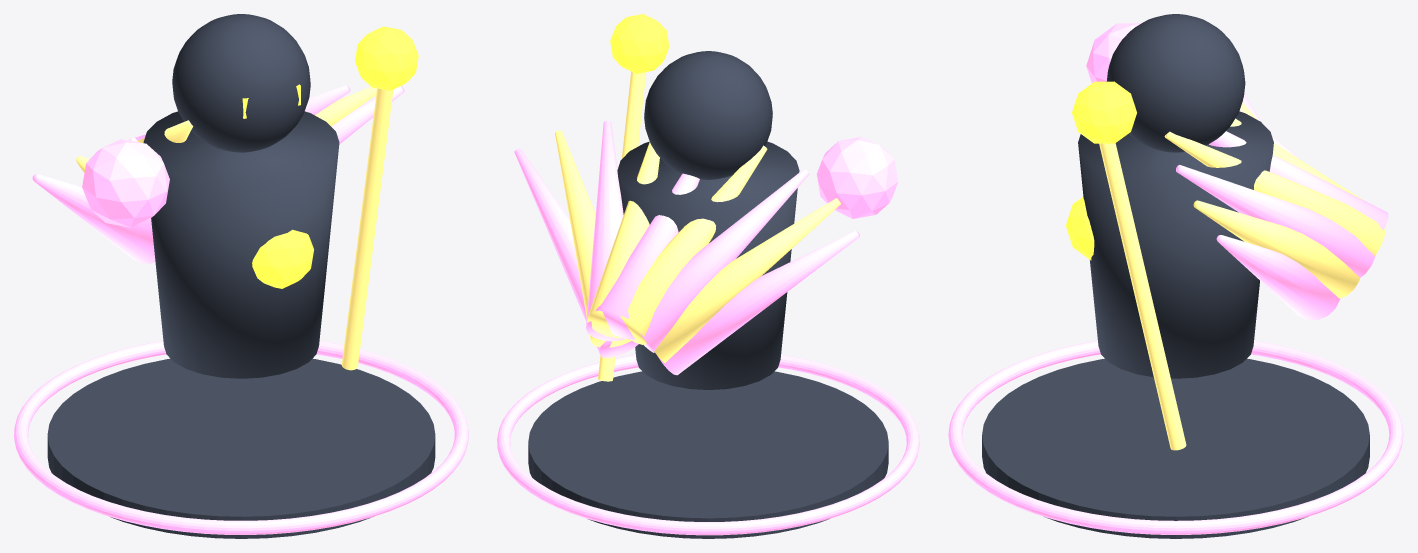
Rendered from kitsune.glb.
The picture shows the model from 3 angles, left to right: view 1: azimuth 30°, elevation 25°; view 2: azimuth 150°, elevation 25°; view 3: azimuth 270°, elevation 25°; orthographic projection. The views are drawn at different scales.
Visible parts, largest first — view 1: AbilityPedestal, AgentTorso, AgentHead, AbilityAuraRing, Pet_KITSUNE, SignatureWeapon, WeaponApex, KitsuneTail_0, AgentCore, KitsuneTail_8, KitsuneTail_7, KitsuneTail_6; view 2: AbilityPedestal, AgentTorso, AgentHead, AbilityAuraRing, KitsuneTail_2, KitsuneTail_1, KitsuneTail_0, Pet_KITSUNE, KitsuneTail_3, KitsuneTail_4, KitsuneTail_6, KitsuneTail_8 (+4 smaller); view 3: AbilityPedestal, AgentTorso, AgentHead, AbilityAuraRing, SignatureWeapon, KitsuneTail_6, KitsuneTail_7, KitsuneTail_5, KitsuneTail_8, WeaponApex, KitsuneTail_4, Pet_KITSUNE (+2 smaller).
Part boxes in pixels (<box>): AbilityPedestal: <box>47,358,435,538</box>; AgentTorso: <box>143,111,339,378</box>; AgentHead: <box>172,14,310,152</box>; AbilityAuraRing: <box>14,340,468,534</box>; Pet_KITSUNE: <box>82,139,169,227</box>; SignatureWeapon: <box>341,88,393,370</box>; WeaponApex: <box>355,26,418,90</box>; KitsuneTail_0: <box>32,174,155,263</box>; AgentCore: <box>252,229,313,288</box>; KitsuneTail_8: <box>331,86,404,144</box>; KitsuneTail_7: <box>315,86,376,126</box>; KitsuneTail_6: <box>305,85,350,114</box>; AbilityPedestal: <box>528,371,888,538</box>; AgentTorso: <box>617,141,799,389</box>; AgentHead: <box>644,51,772,179</box>; AbilityAuraRing: <box>497,354,919,535</box>; KitsuneTail_2: <box>639,169,809,352</box>; KitsuneTail_1: <box>654,198,840,362</box>; KitsuneTail_0: <box>657,230,859,375</box>; Pet_KITSUNE: <box>816,136,898,218</box>; KitsuneTail_3: <box>620,145,767,344</box>; KitsuneTail_4: <box>595,173,699,339</box>; KitsuneTail_6: <box>586,120,624,341</box>; KitsuneTail_8: <box>514,148,638,358</box>; AbilityPedestal: <box>982,358,1369,538</box>; AgentTorso: <box>1078,111,1273,378</box>; AgentHead: <box>1106,14,1245,152</box>; AbilityAuraRing: <box>948,340,1403,534</box>; SignatureWeapon: <box>1099,143,1186,450</box>; KitsuneTail_6: <box>1176,165,1375,277</box>; KitsuneTail_7: <box>1193,200,1360,298</box>; KitsuneTail_5: <box>1164,131,1385,255</box>; KitsuneTail_8: <box>1216,235,1340,319</box>; WeaponApex: <box>1072,81,1136,143</box>; KitsuneTail_4: <box>1209,131,1388,230</box>; Pet_KITSUNE: <box>1086,23,1140,82</box>.
Bounding box in the file's own units: 2.23 × 2.36 × 2.23.
